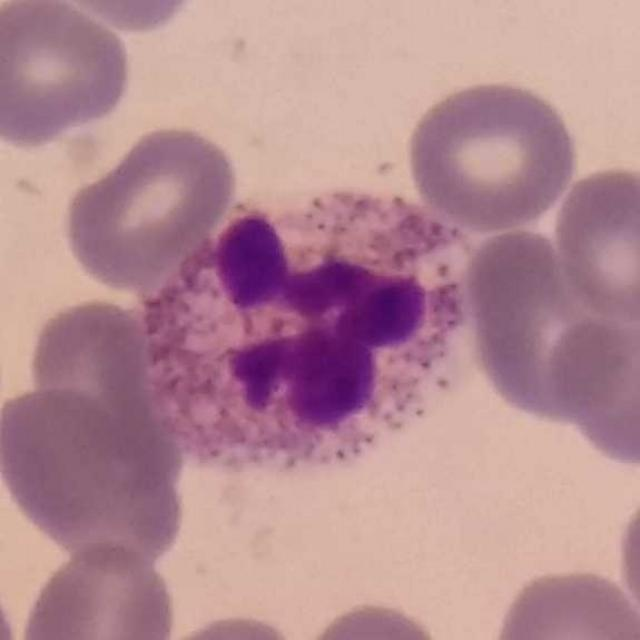Neutrophil: (130, 176, 484, 486)
RBC: (462, 227, 633, 425), (0, 380, 186, 562), (59, 118, 242, 293), (402, 74, 582, 232), (21, 292, 160, 462), (0, 0, 136, 148), (15, 537, 180, 640), (545, 296, 640, 471), (548, 160, 640, 323), (487, 563, 640, 640), (294, 596, 455, 640), (40, 0, 205, 35), (144, 609, 308, 640), (613, 473, 640, 640)
